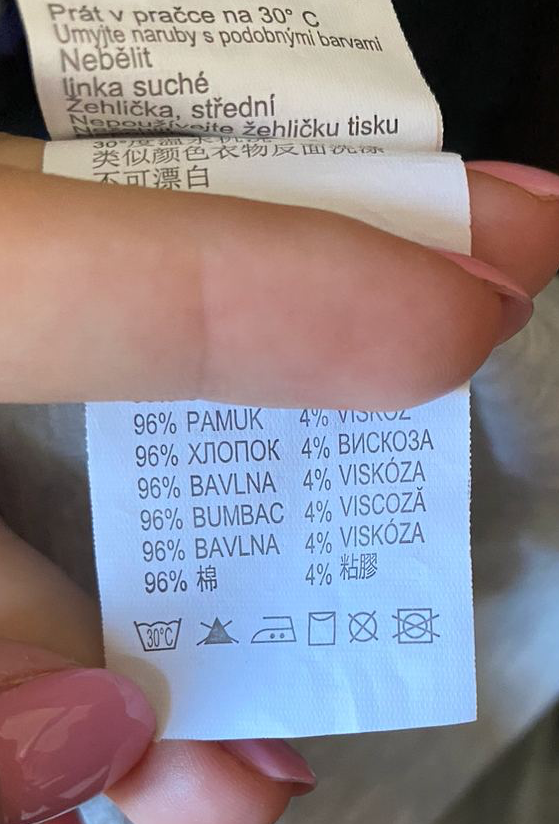do_not_bleach: (193, 613, 244, 649)
do_not_dry_clean: (343, 606, 383, 647)
do_not_tumble_drying: (390, 606, 440, 648)
ironing_at_med_temp: (247, 611, 299, 647)
line_dry: (305, 605, 339, 651)
wash_at_or_below_30: (134, 613, 186, 656)
